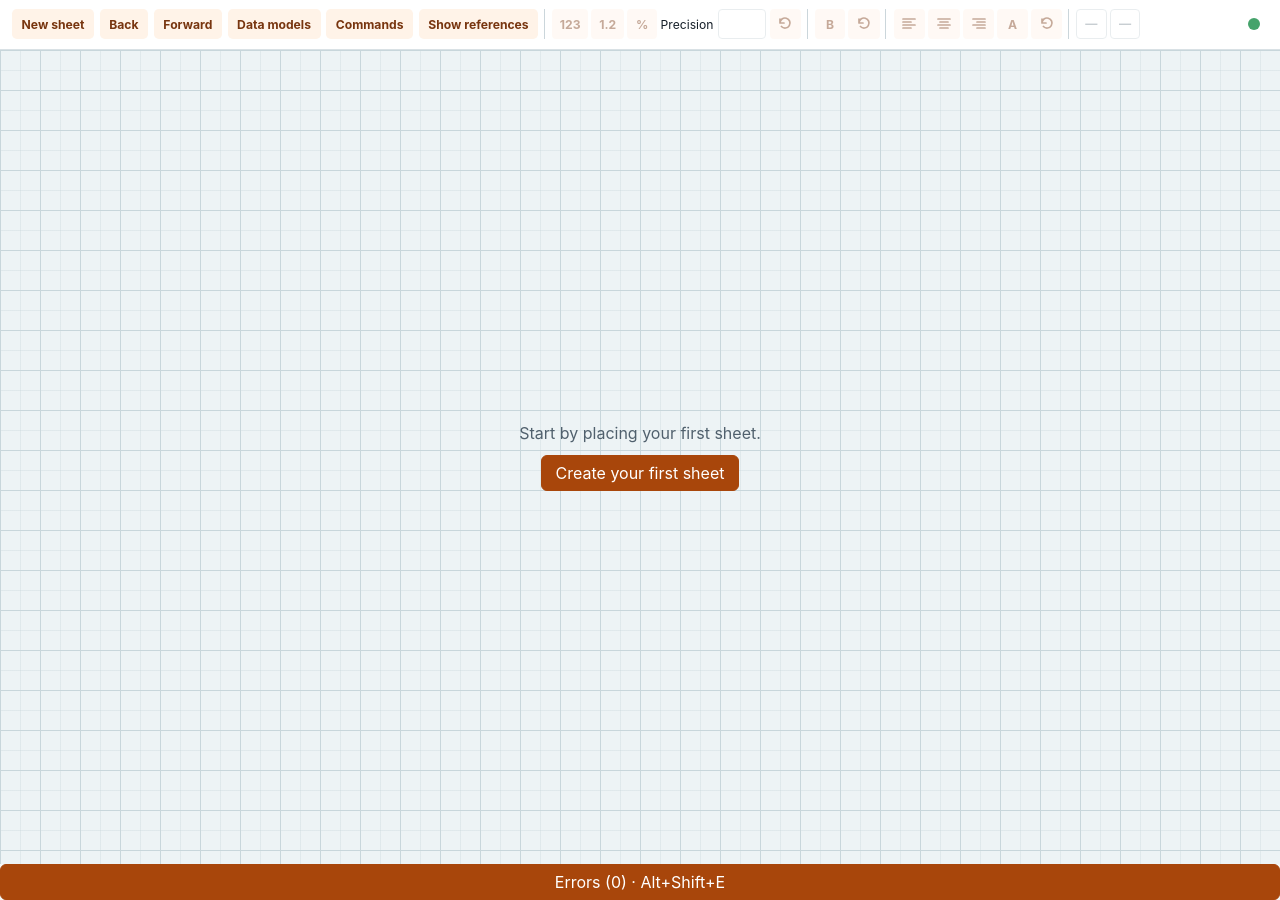
it: App sheet management integration › renders validation feedback in the create dialog
What coordinates should you click on to do the following:
click the button "New sheet"
I would click on:
 (53, 24)
Its box is [12,9,94,40].
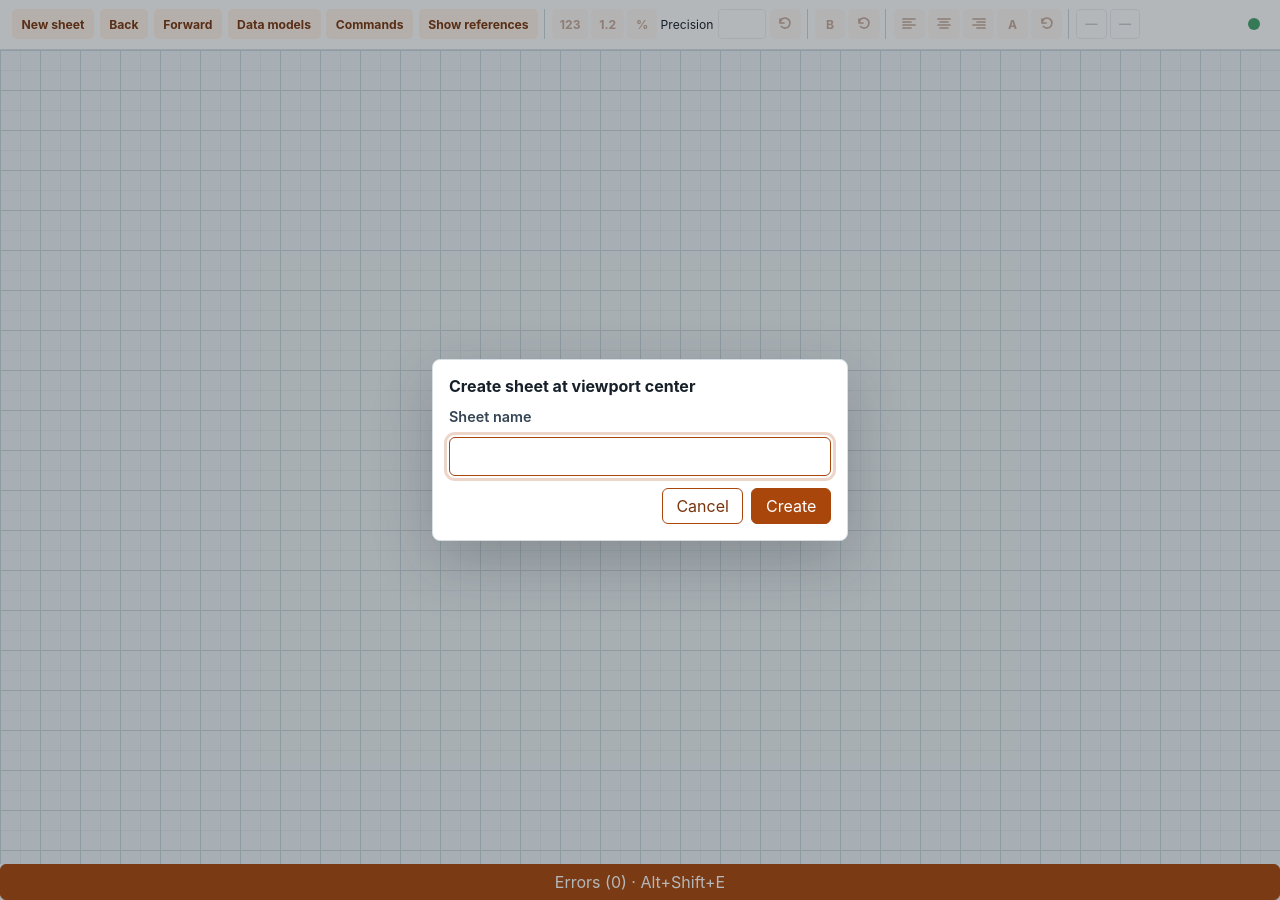
What coordinates should you click on to do the following:
click the button "Create"
I would click on:
 (791, 506)
Its box is [752,488,831,524].
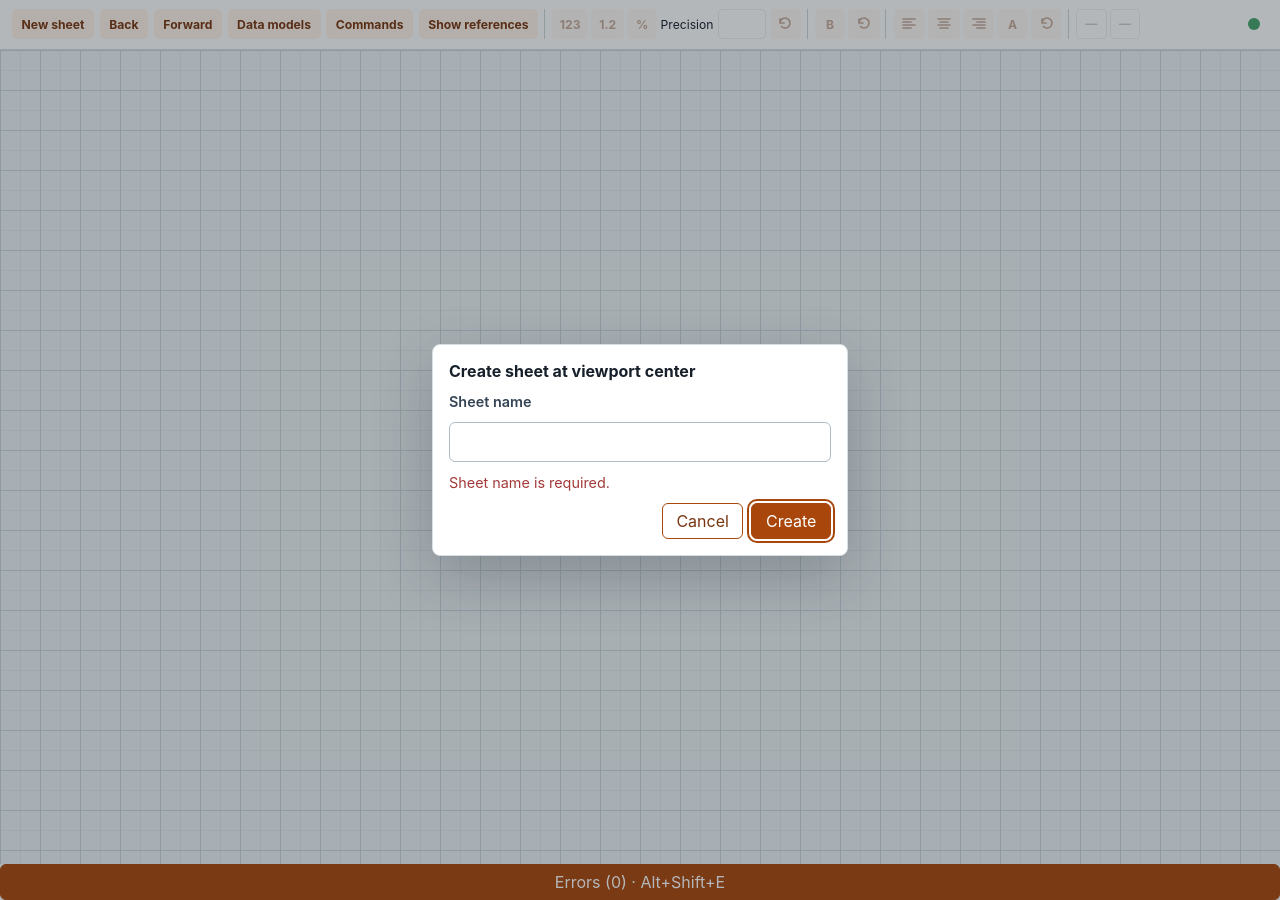
Expected: the message shows "required", [449,474,610,491]
